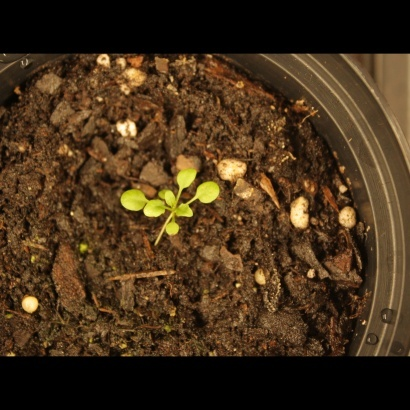leaf: (112, 184, 149, 215), (193, 181, 225, 212), (173, 164, 197, 191), (161, 220, 184, 243), (177, 204, 200, 227), (144, 199, 167, 222), (160, 186, 183, 209)
